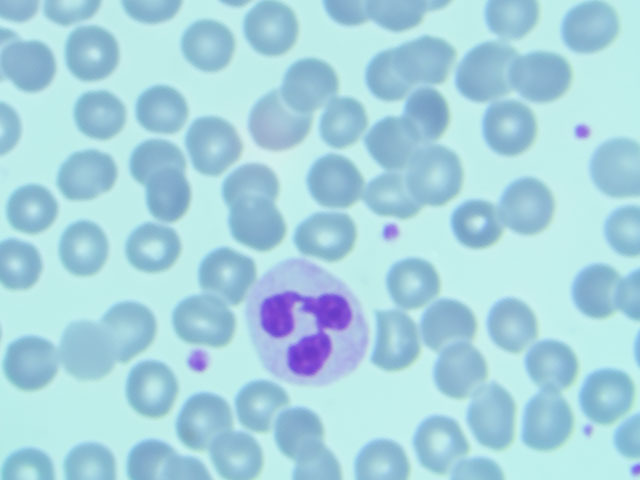Platelets: (185, 347, 214, 376), (377, 220, 403, 243), (569, 121, 596, 142), (581, 420, 600, 439), (625, 460, 640, 480)
RBC: (2, 38, 61, 93), (61, 26, 120, 81), (71, 86, 130, 141), (57, 148, 116, 203), (3, 180, 62, 235), (58, 219, 117, 274), (119, 220, 178, 275), (139, 166, 198, 221), (127, 135, 186, 190), (135, 80, 194, 135), (181, 19, 240, 74), (183, 118, 242, 173), (222, 152, 281, 207), (225, 197, 284, 252), (197, 247, 256, 302), (174, 287, 233, 342), (98, 302, 157, 357), (58, 328, 117, 383), (4, 337, 63, 392), (121, 361, 180, 416), (174, 390, 233, 445), (208, 425, 267, 480), (233, 376, 292, 431), (270, 404, 329, 459), (356, 425, 415, 480), (402, 414, 461, 469), (457, 389, 516, 444), (428, 347, 487, 402), (417, 301, 476, 356), (368, 310, 427, 365), (383, 255, 442, 310), (444, 197, 503, 252), (502, 178, 561, 233), (411, 148, 470, 203), (366, 122, 425, 177), (393, 87, 452, 142), (364, 43, 423, 98), (282, 53, 341, 108), (249, 99, 308, 154), (312, 96, 371, 151), (305, 152, 364, 207), (296, 205, 355, 260), (485, 299, 544, 354), (519, 339, 578, 394), (518, 393, 577, 448), (581, 367, 640, 422), (568, 263, 627, 318), (581, 139, 640, 194), (477, 99, 536, 154), (516, 49, 575, 104), (451, 42, 510, 97), (398, 31, 457, 86), (562, 2, 621, 57), (244, 2, 303, 57), (479, 1, 538, 55), (125, 438, 187, 478), (57, 440, 119, 480), (288, 446, 342, 480), (604, 205, 640, 255), (1, 447, 51, 480), (371, 1, 419, 29)
WBC: (240, 263, 366, 384)
